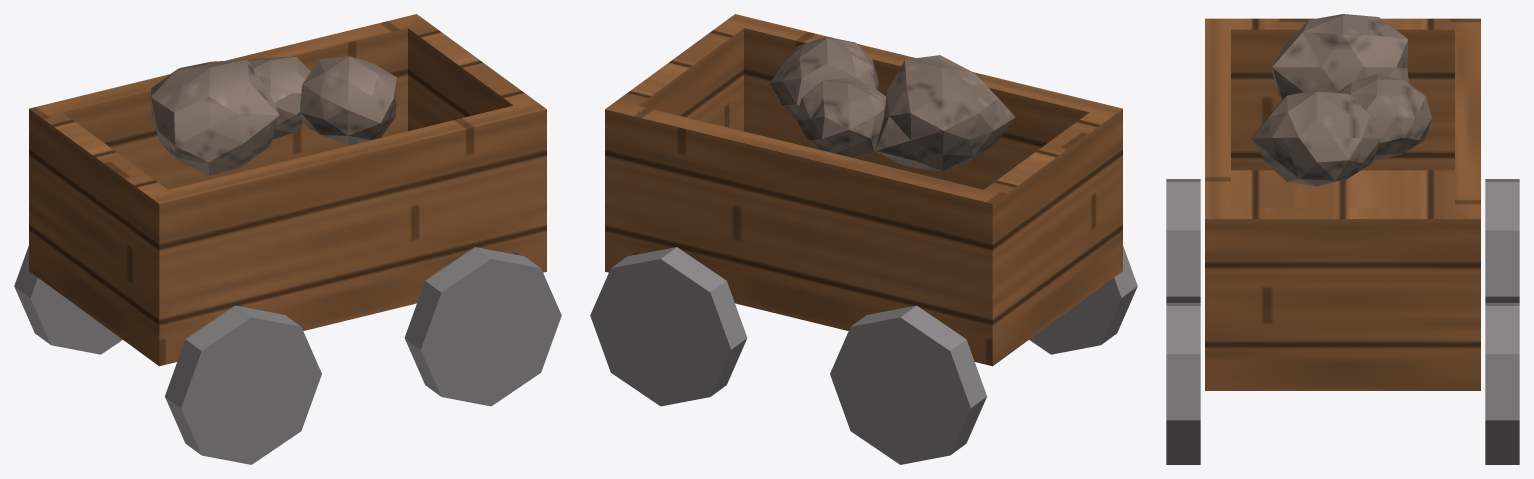
Rendered from oreCart.glb.
3 renders of one model, left to right at view 1: azimuth 30°, elevation 25°; view 2: azimuth 150°, elevation 25°; view 3: azimuth 270°, elevation 25°, orthographic. The views are drawn at different scales.
Visible parts, largest first — view 1: oreCart; view 2: oreCart; view 3: oreCart.
Boxes of the visible parts, x1,y1,x2,y2 form: oreCart: (14, 14, 561, 464); oreCart: (590, 14, 1137, 464); oreCart: (1166, 14, 1519, 464).
Size of the model in its own units: 1.1 by 0.8837 by 0.82.
3 materials, 2 textured.
